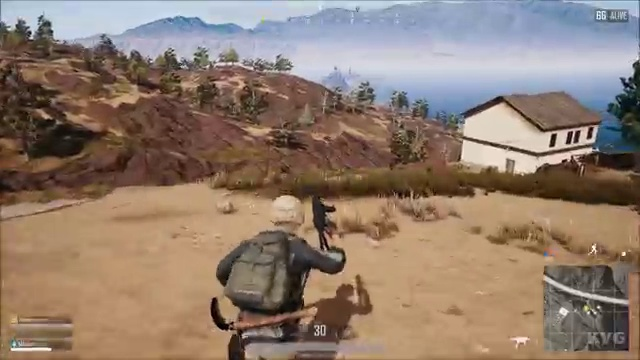Player: (201, 188, 386, 309)
